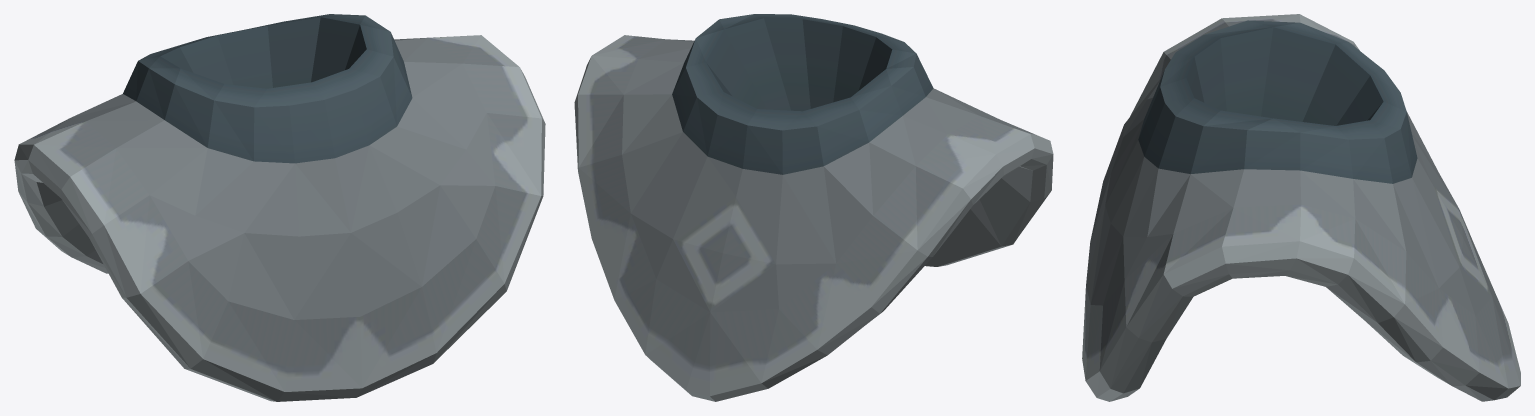
Rendered from NPC_CivilianFemaleShoulder.glb.
3 renders of one model, left to right at view 1: azimuth 30°, elevation 25°; view 2: azimuth 150°, elevation 25°; view 3: azimuth 270°, elevation 25°, orthographic. The views are drawn at different scales.
Visible parts, largest first — view 1: NPC_CivilianFemaleShoulder; view 2: NPC_CivilianFemaleShoulder; view 3: NPC_CivilianFemaleShoulder.
Boxes of the visible parts, box(x1,y1,x2,y2) form: NPC_CivilianFemaleShoulder: box(14, 14, 545, 401); NPC_CivilianFemaleShoulder: box(574, 14, 1053, 401); NPC_CivilianFemaleShoulder: box(1082, 14, 1520, 401).
Bounding box in the file's own units: 3.36 × 2.13 × 2.65.
1 material, 1 textured.
